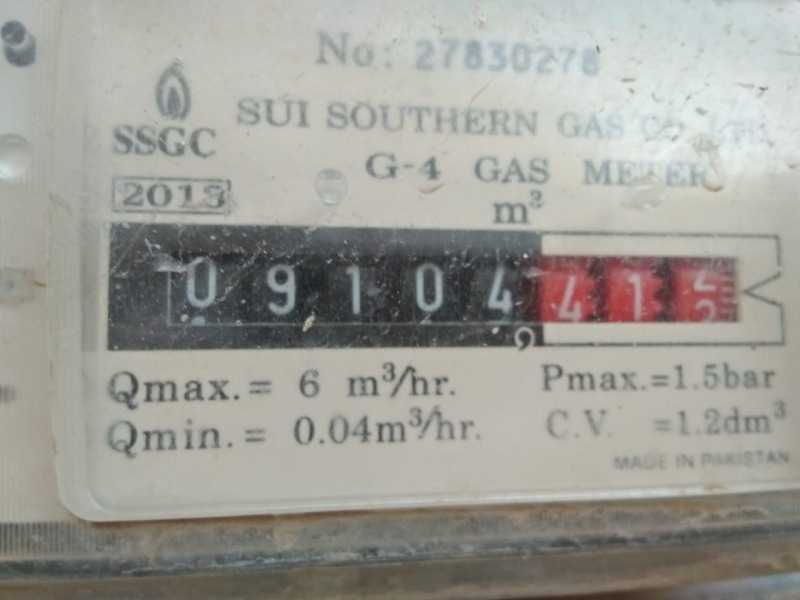ssgc: (118, 225, 780, 344)
